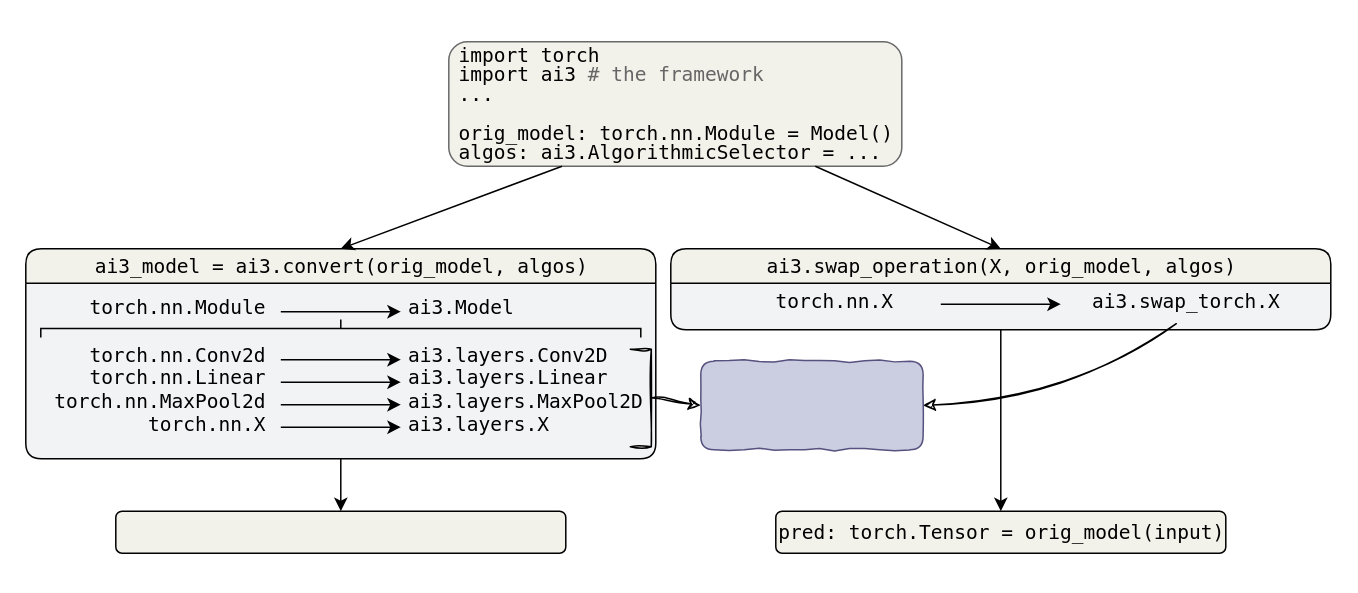
Image size: 1358x593. Some labels were removed from this diagram. The shapes that lost their labels are listed below. From the top down, each one's centre as x and y in pixels, then its label:
At [811,405]: "C++ implementation of the algorithm selected by user".
At [340,531]: "pred: torch.Tensor = ai3_model(input)".
